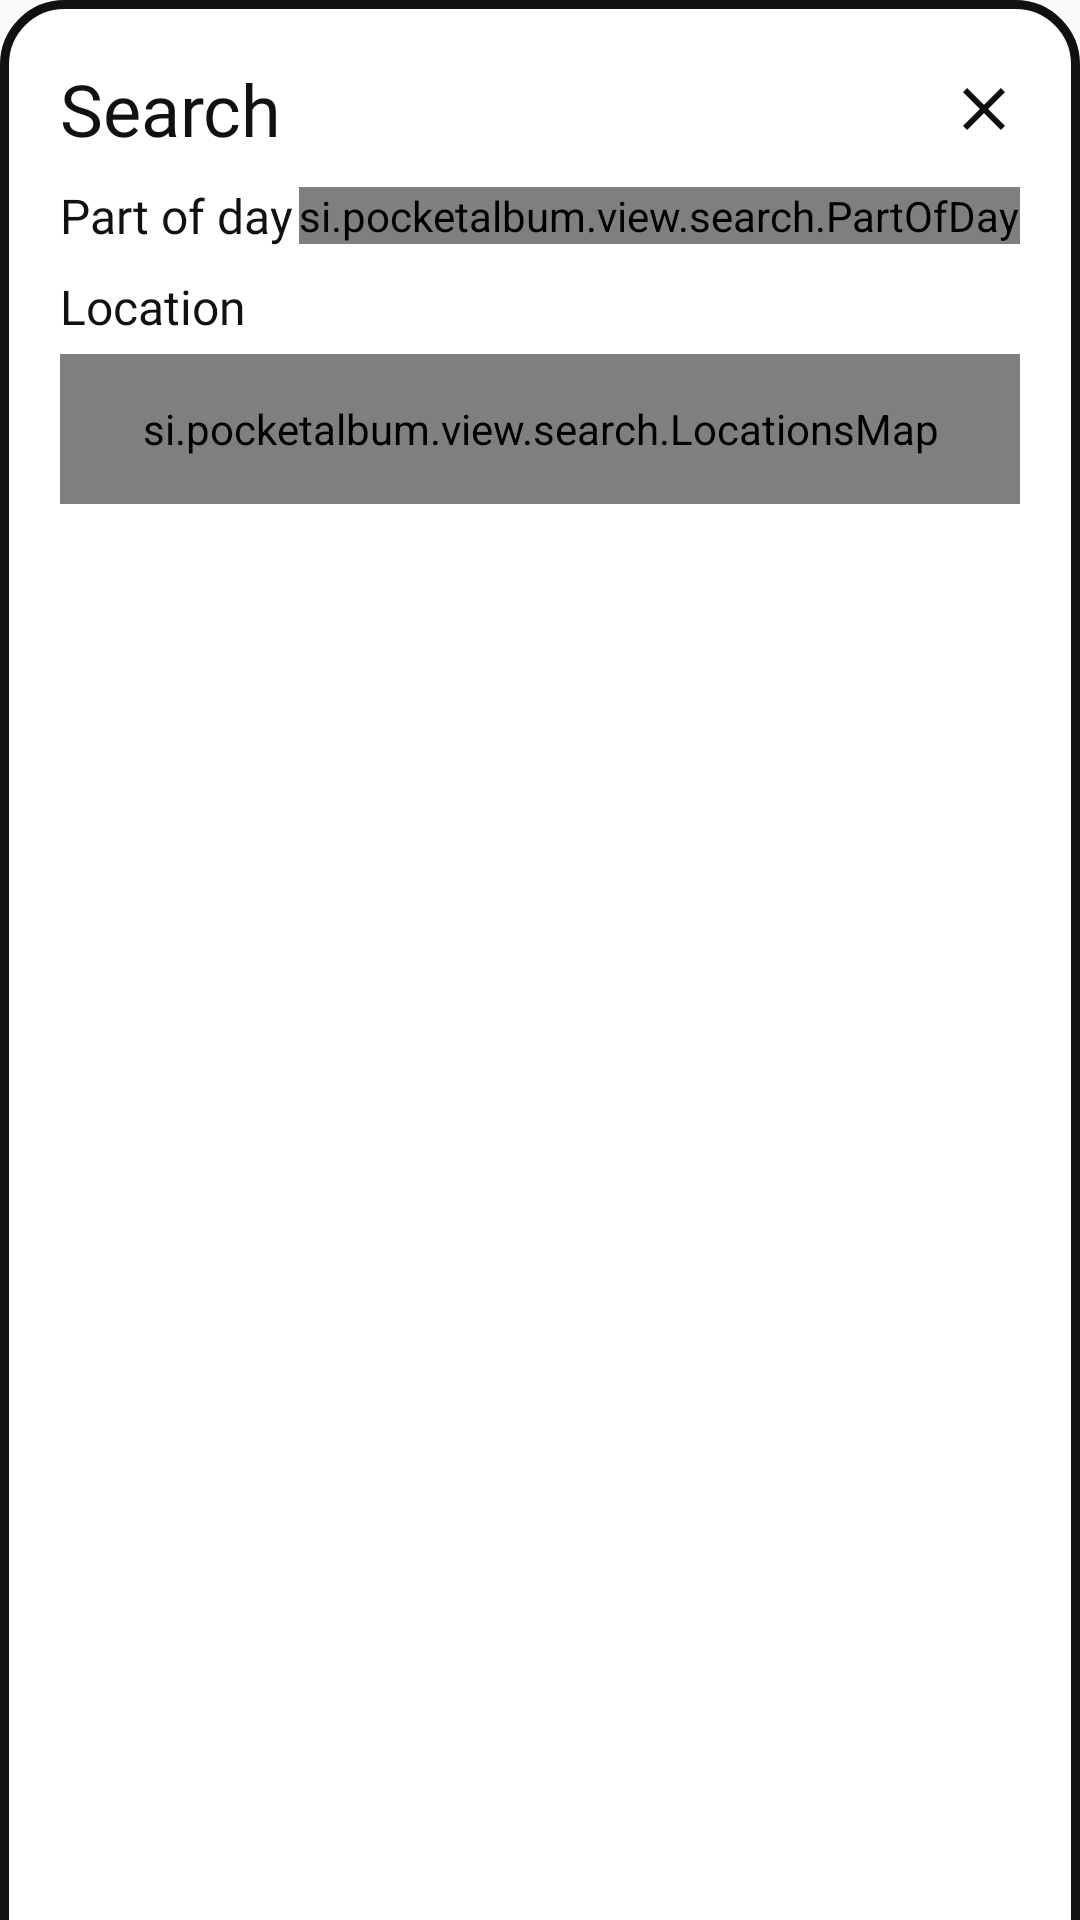

Where icons sit on this 1080 × 1920 app screen, as (x1, y1, x2, y2):
Close: (963, 88, 1005, 130)
